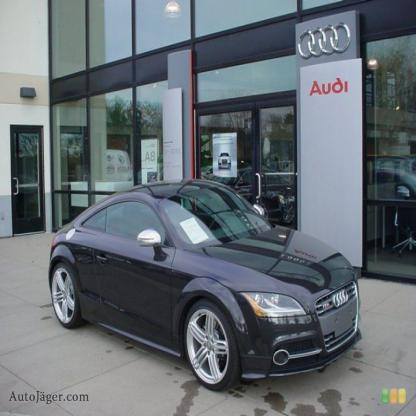Vehicle: (49, 175, 362, 396)
